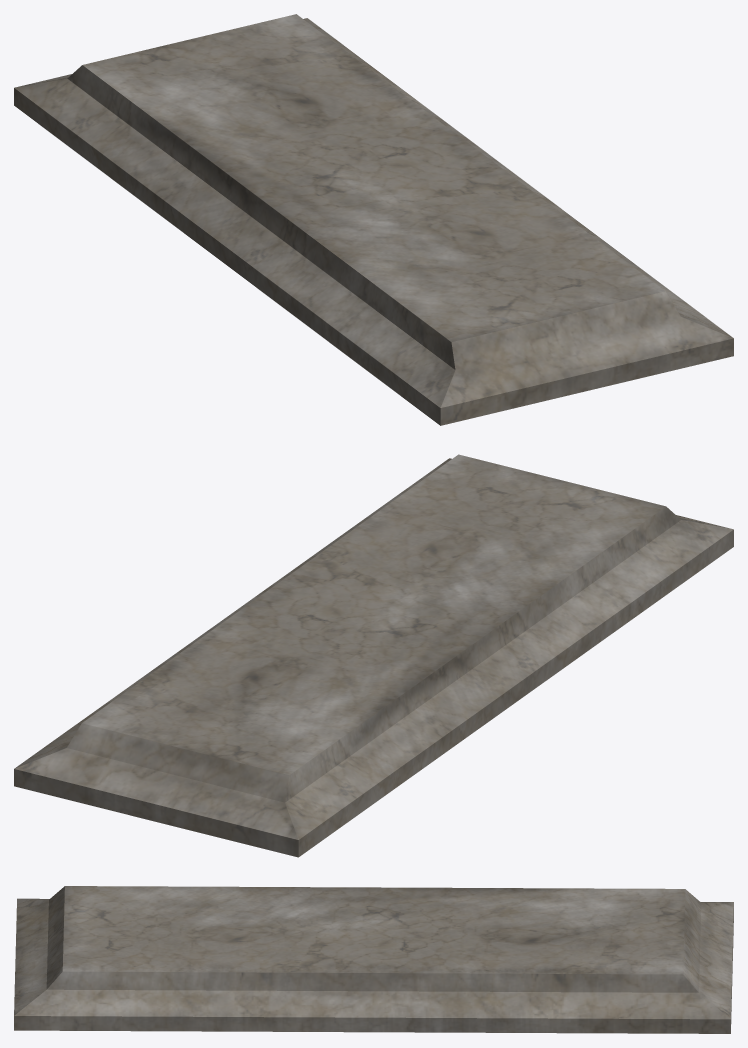
The model's file is sacofago_p_tapa_UVM.fbx.
3 views of the same model, one above another, from view 1: azimuth 30°, elevation 25°; view 2: azimuth 150°, elevation 25°; view 3: azimuth 270°, elevation 25° (orthographic). The views are drawn at different scales.
Visible parts, largest first — view 1: sacofago_p_tapa; view 2: sacofago_p_tapa; view 3: sacofago_p_tapa.
Part boxes in pixels (x1,y1,x2,y2): sacofago_p_tapa: [14, 14, 733, 425]; sacofago_p_tapa: [14, 454, 733, 857]; sacofago_p_tapa: [14, 886, 733, 1033].
Bounding box in the file's own units: 103 × 17.26 × 259.
